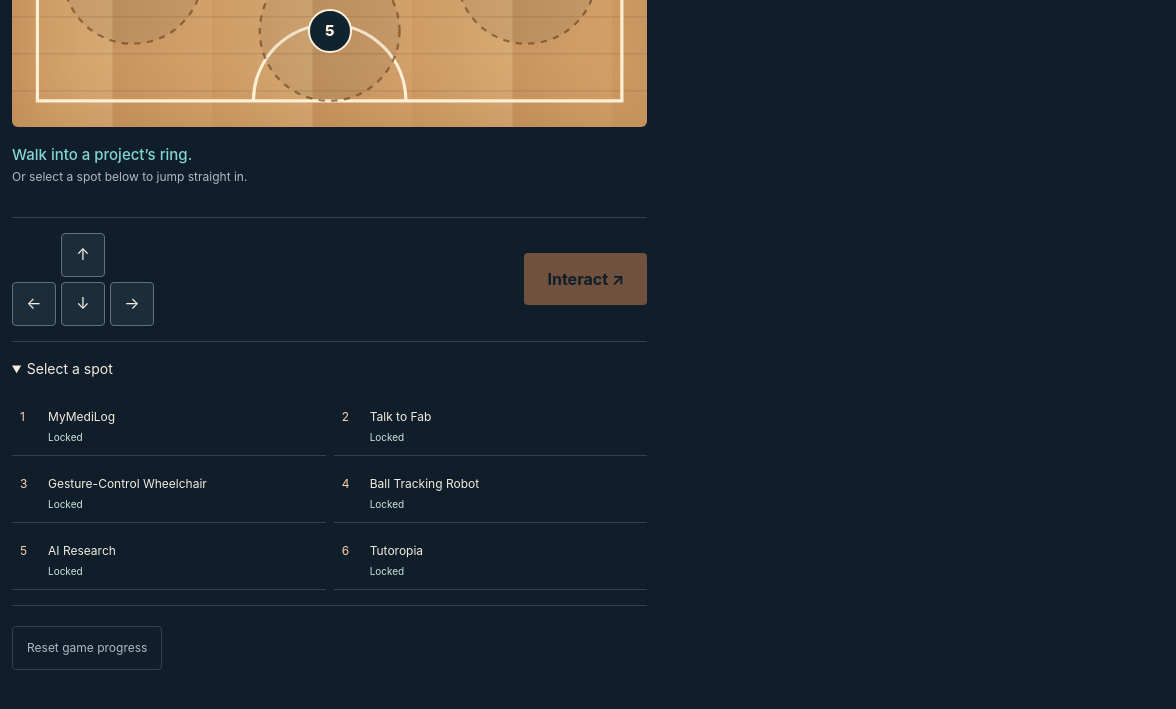
Test: shooting UI › a timed hit unlocks the selected story immediately
This screenshot has width=1176, height=709.
(page scrolled)
Click the button "2 Talk to Fab Locked" at (401, 416), box [334,397,647,456]
(page scrolled)
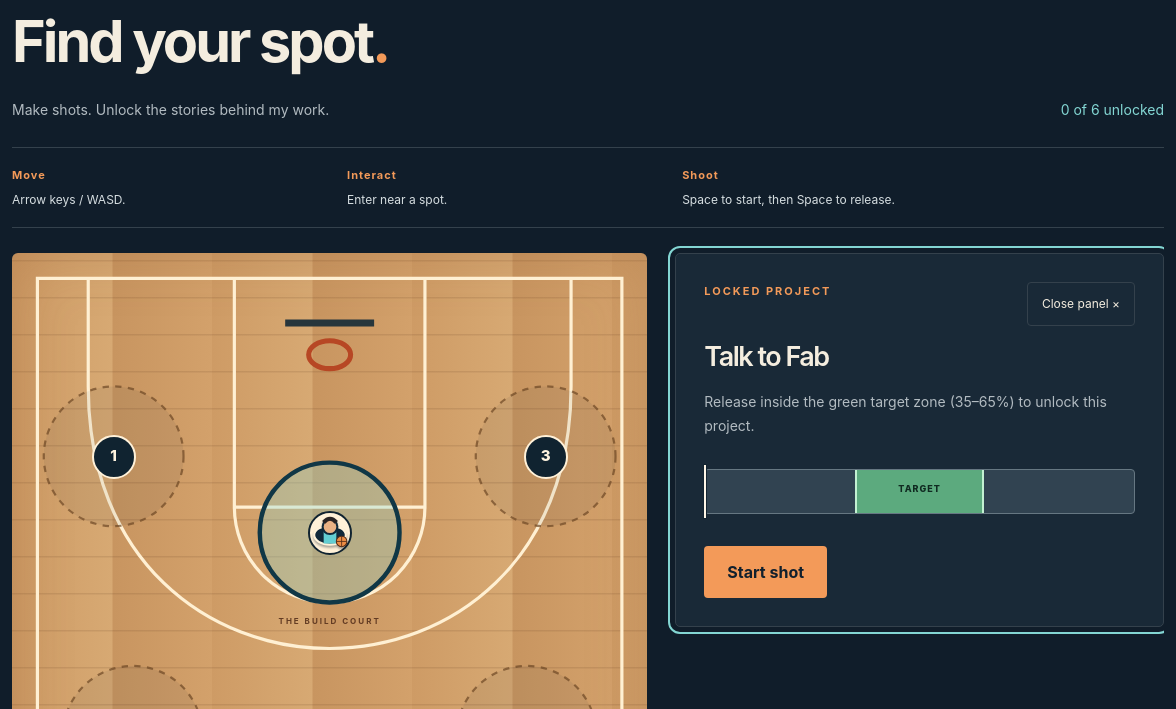
Click the button "Start shot" at (766, 572), box [704,546,827,598]
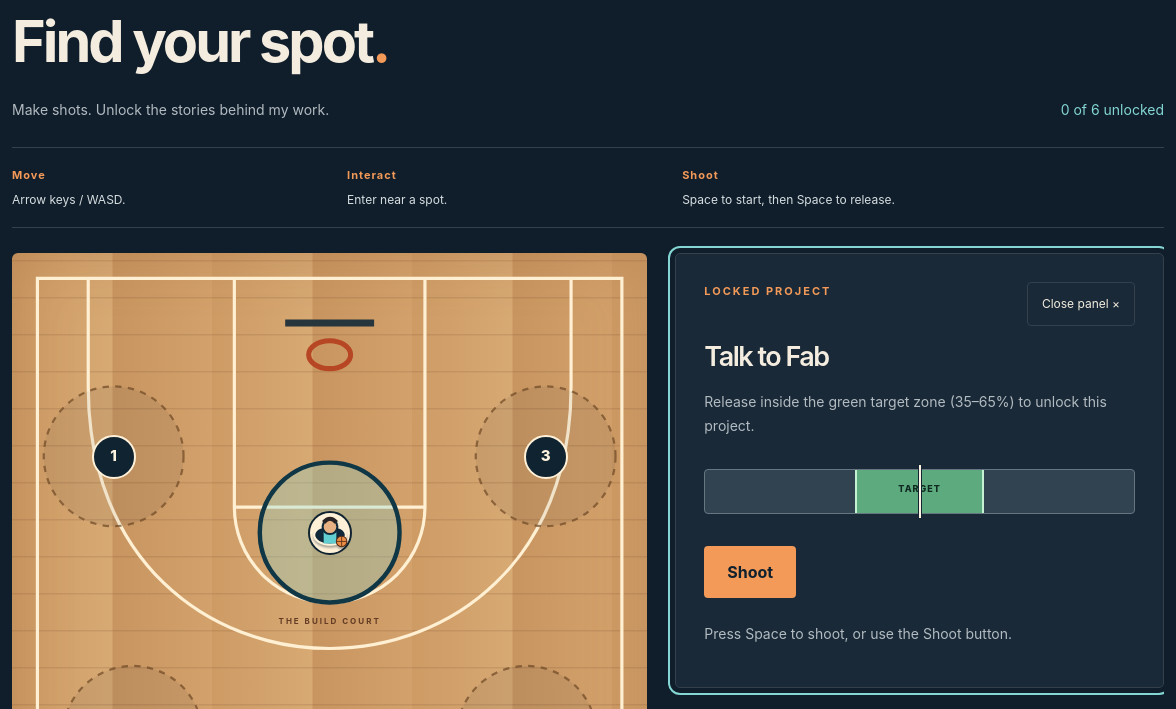
Click the button "Shoot" at (750, 572), box [704,546,796,598]
(page scrolled)
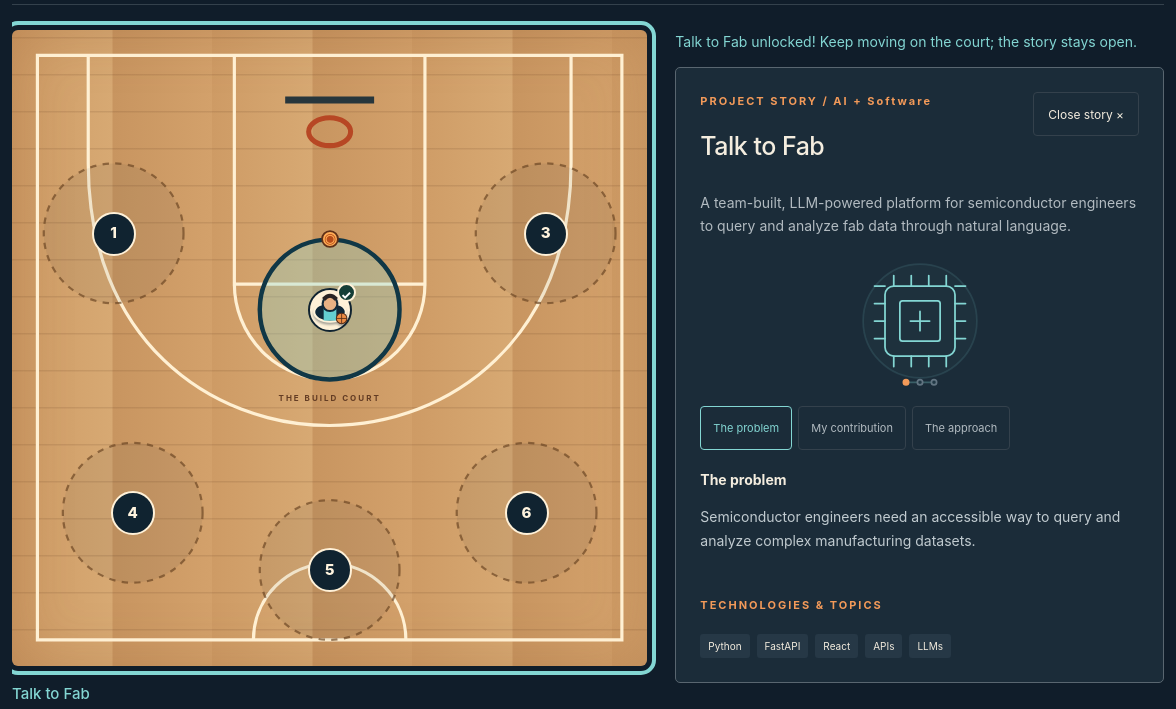
Expected: the element named "Talk to Fab case study" is shown, [675,68,1164,683]
